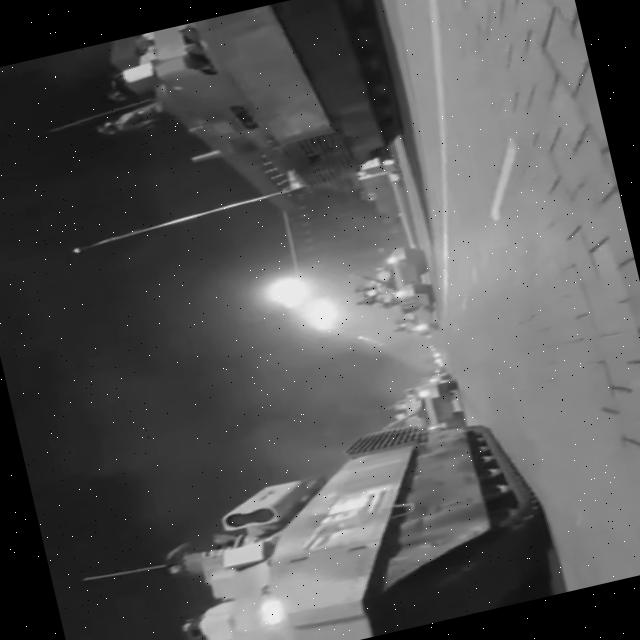north tank: (144, 378, 602, 640), (70, 0, 436, 256), (317, 213, 468, 356), (361, 366, 483, 446)
